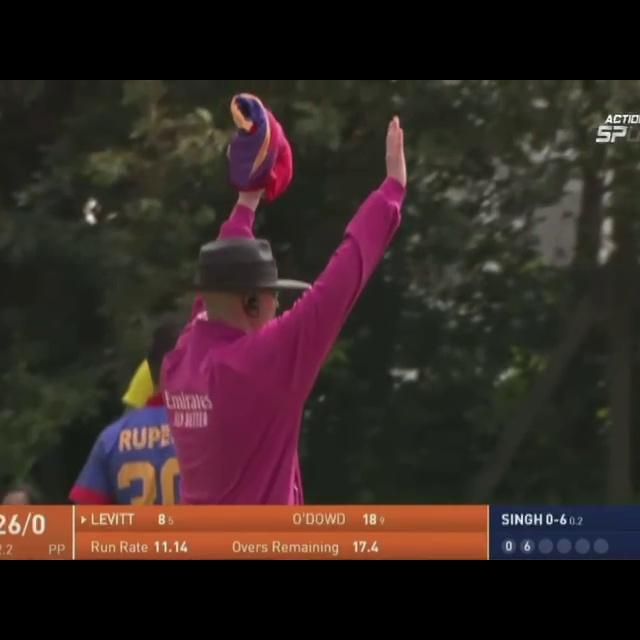umpire: (108, 84, 478, 484)
